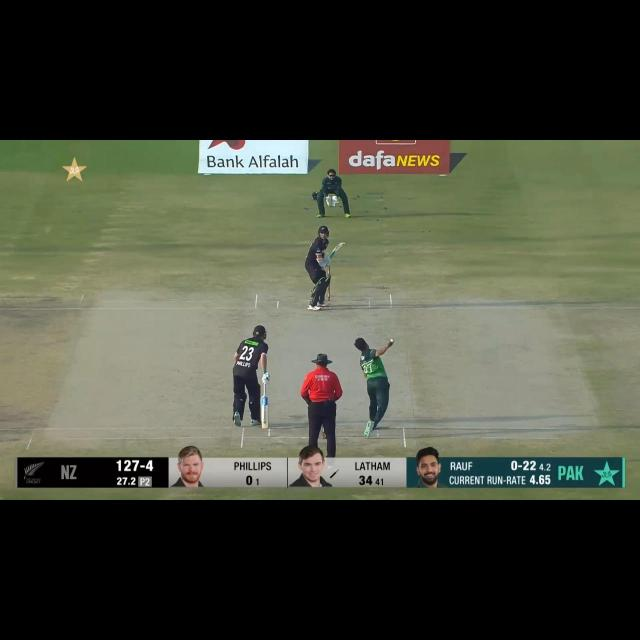bat: (325, 241, 346, 265), (261, 395, 269, 428)
toe: (259, 424, 270, 430), (339, 240, 346, 248)
